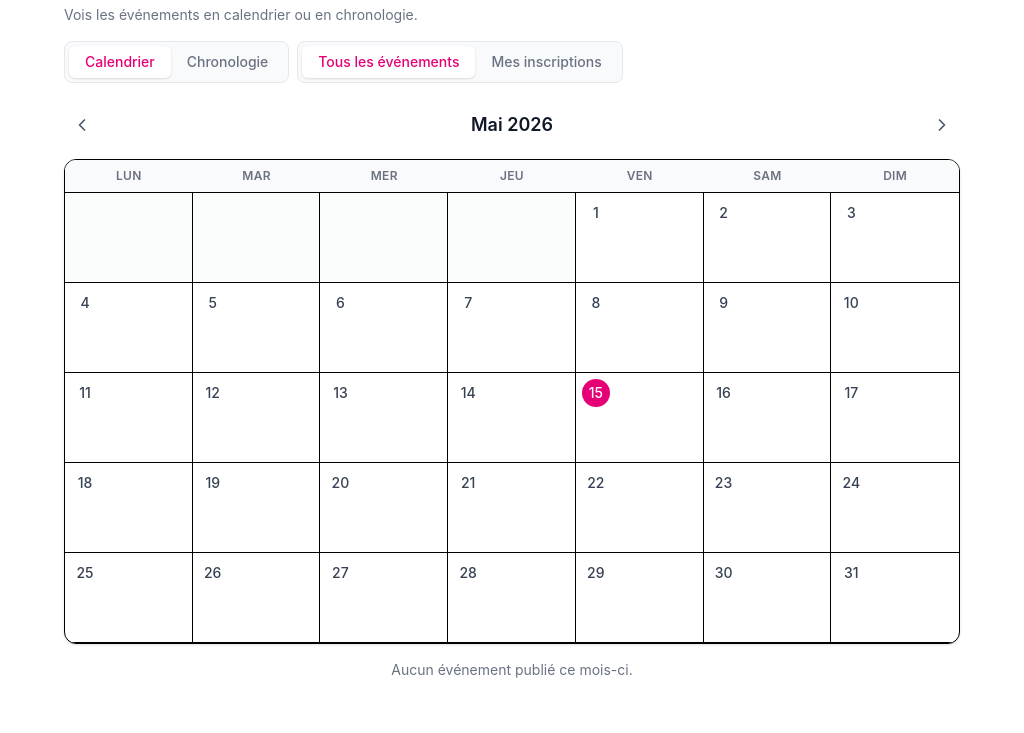
Test: CalendarPage › shows "Aucun événement ce jour." for a day with no events
Expected: the text "Aucun événement publié ce mois-ci." is shown, 391,661 -> 633,678
Click the button "3".
click(895, 238)  # box 831,193 -> 959,283
(page scrolled)
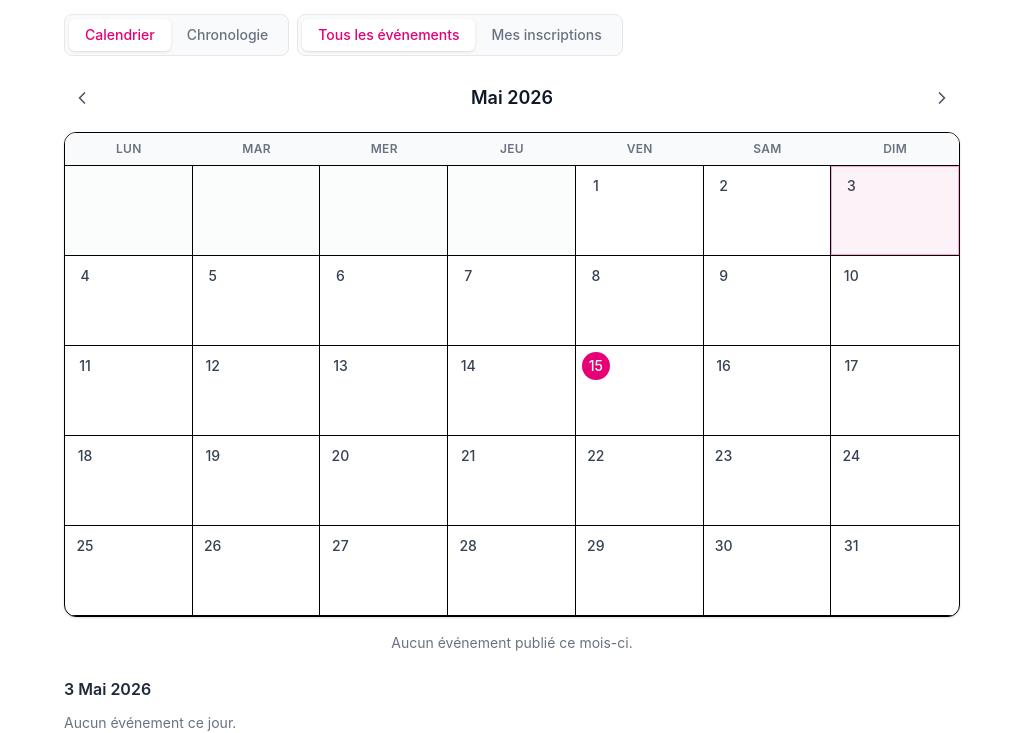
Expected: the text "Aucun événement ce jour." is shown, 64,714 -> 236,731
